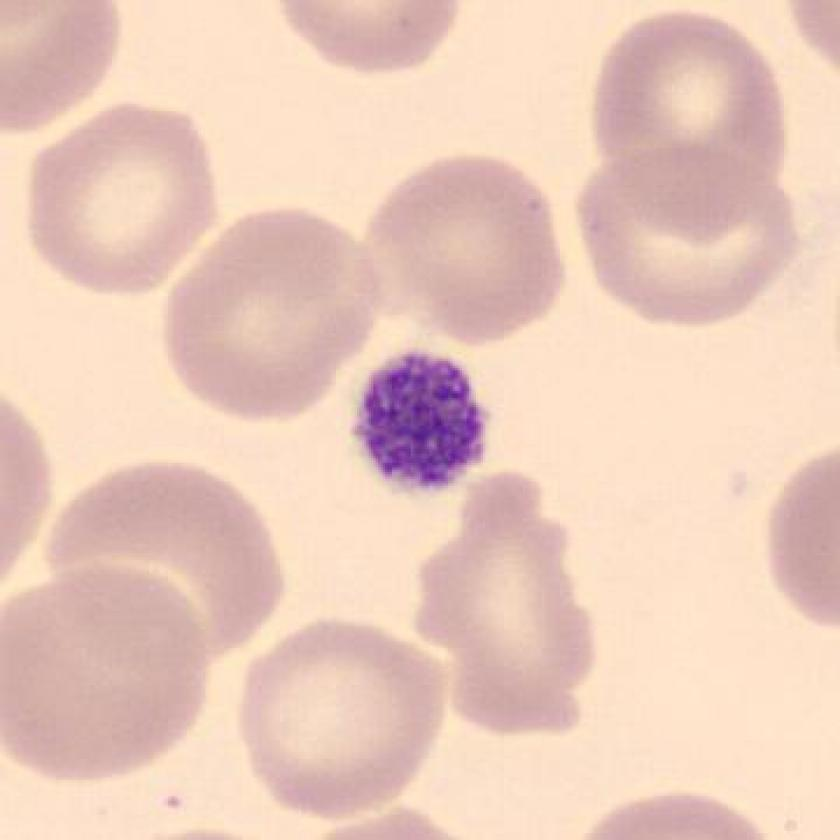platelets: (340, 337, 501, 510)
